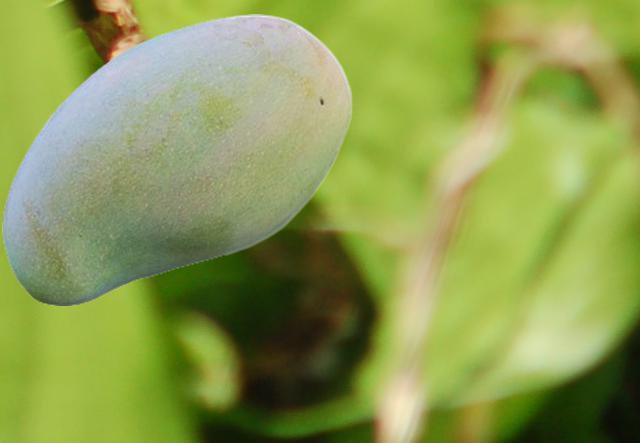green_mango: (2, 14, 352, 304)
